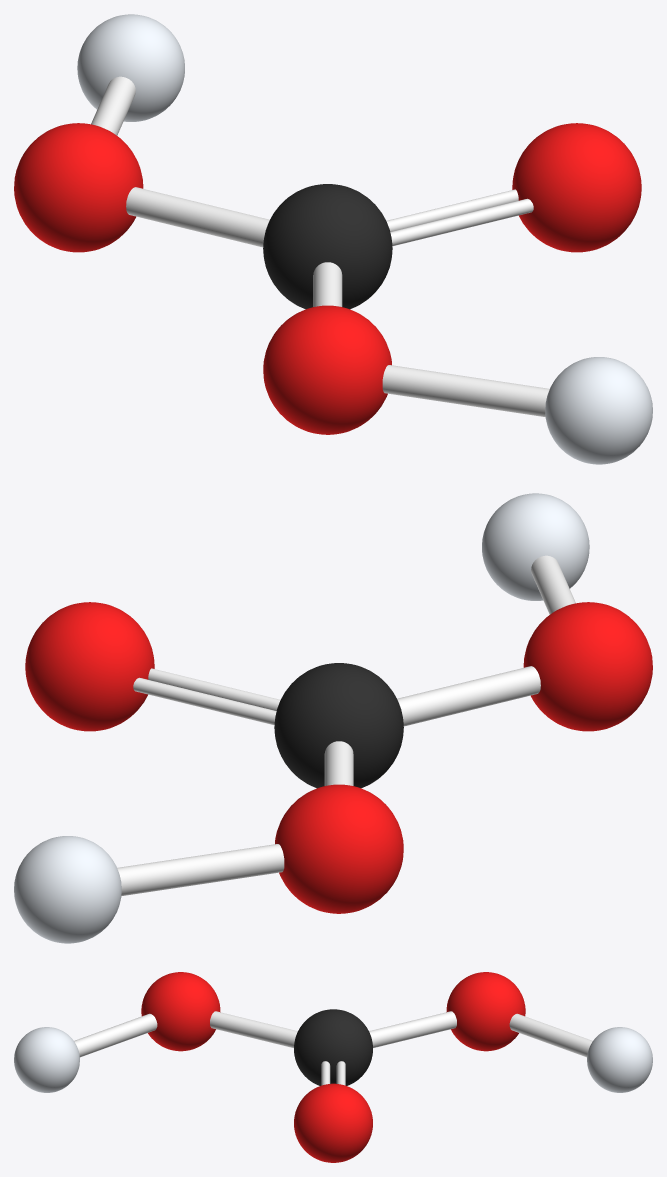
Rendered from carbonic_acid.fbx.
The picture shows the model from 3 angles, top to bottom: view 1: azimuth 30°, elevation 25°; view 2: azimuth 150°, elevation 25°; view 3: azimuth 270°, elevation 25°; orthographic projection. The views are drawn at different scales.
Visible parts, largest first — view 1: carbonic_acid; view 2: carbonic_acid; view 3: carbonic_acid.
Boxes of the visible parts, left/top/right/bottom form: carbonic_acid: left=14, top=14, right=652, bottom=464; carbonic_acid: left=14, top=493, right=652, bottom=943; carbonic_acid: left=14, top=972, right=652, bottom=1162.
Size of the model in its own units: 156 by 36 by 290.
